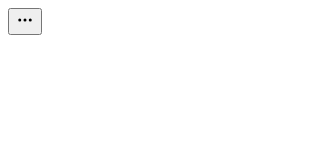
Test: MenuActions › s’ouvre, se parcourt aux flèches et se ferme sur Échap en rendant le focus
The image size is (320, 160).
Click the button named "Autres actions" at (25, 22), box [8,8,42,35]
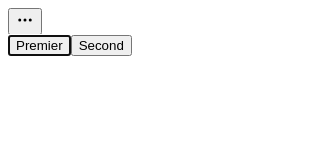
Press ArrowDown in the menu item "Premier", box [8,35,71,56]
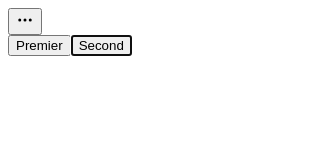
Press Escape in the menu item "Second", box [71,35,132,56]
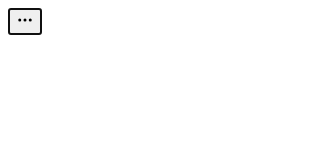
Check: the menu is gone
